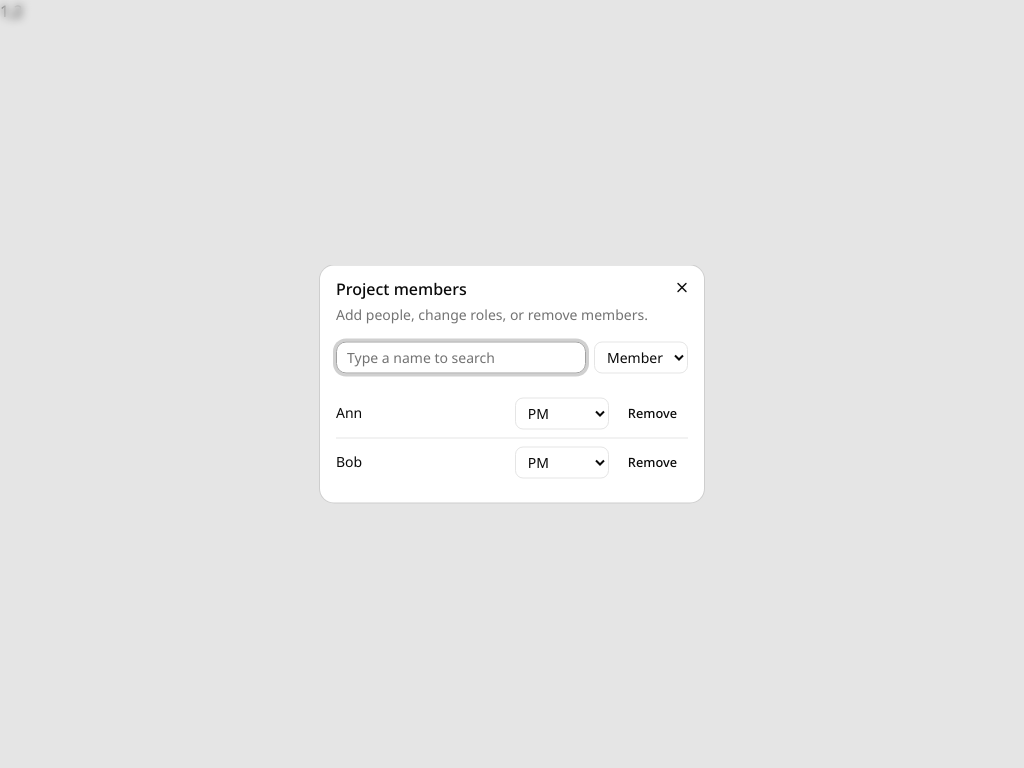
Test case: MembersDialog edge cases › removing yourself drops the project from the projects list cache
expect the text with test id "projects" reads "1,2": met, box [0, 0, 23, 24]
What coordinates should you click on to do the following:
click the button with aria-label "Remove Ann"
I would click on:
 (652, 414)
Its box is [617, 400, 688, 428].
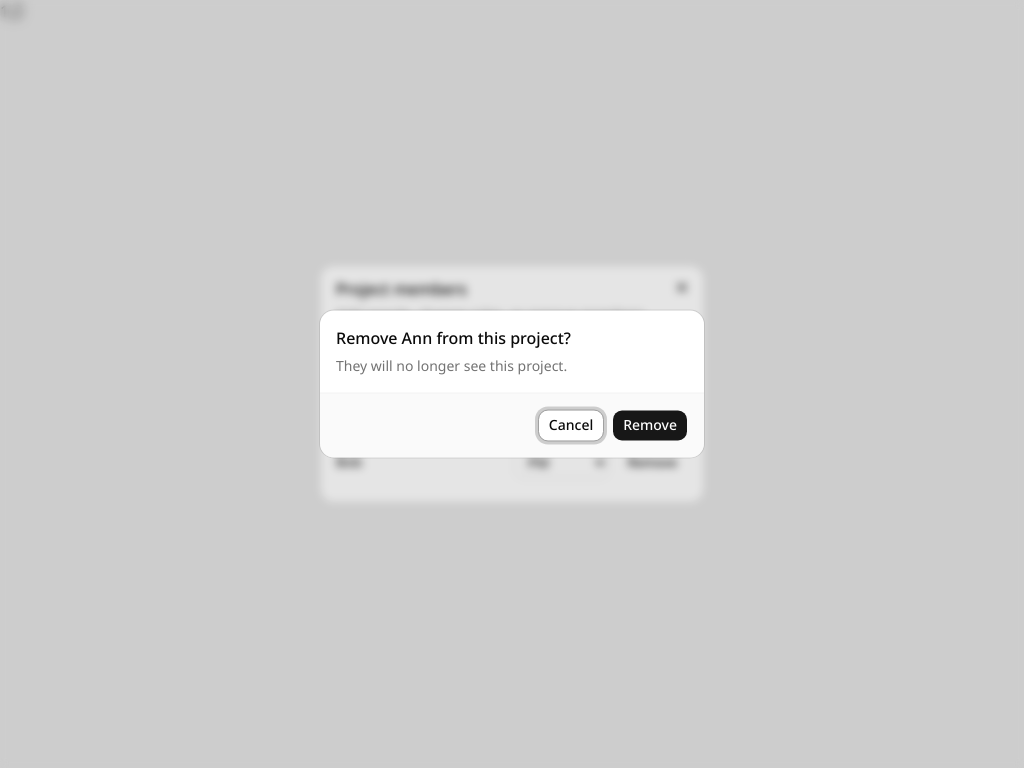
What coordinates should you click on to do the following:
click the button "Remove"
I would click on:
 (650, 426)
Its box is [612, 410, 688, 442].
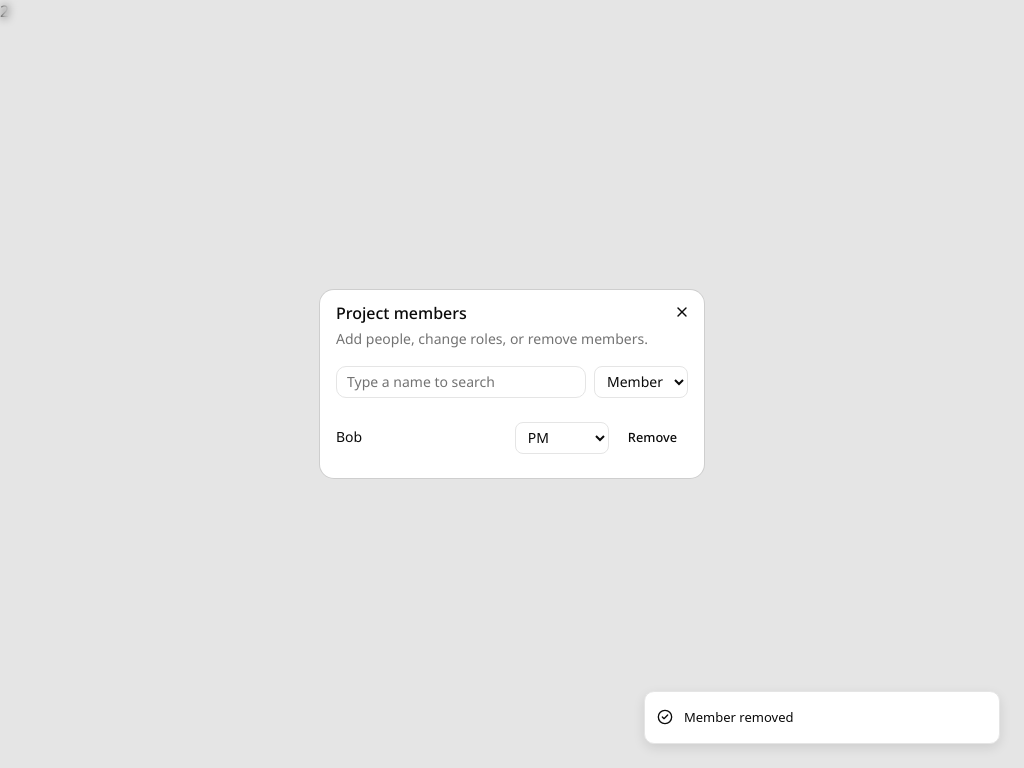
expect the text with test id "projects" reads "2": met, box [0, 0, 9, 24]
